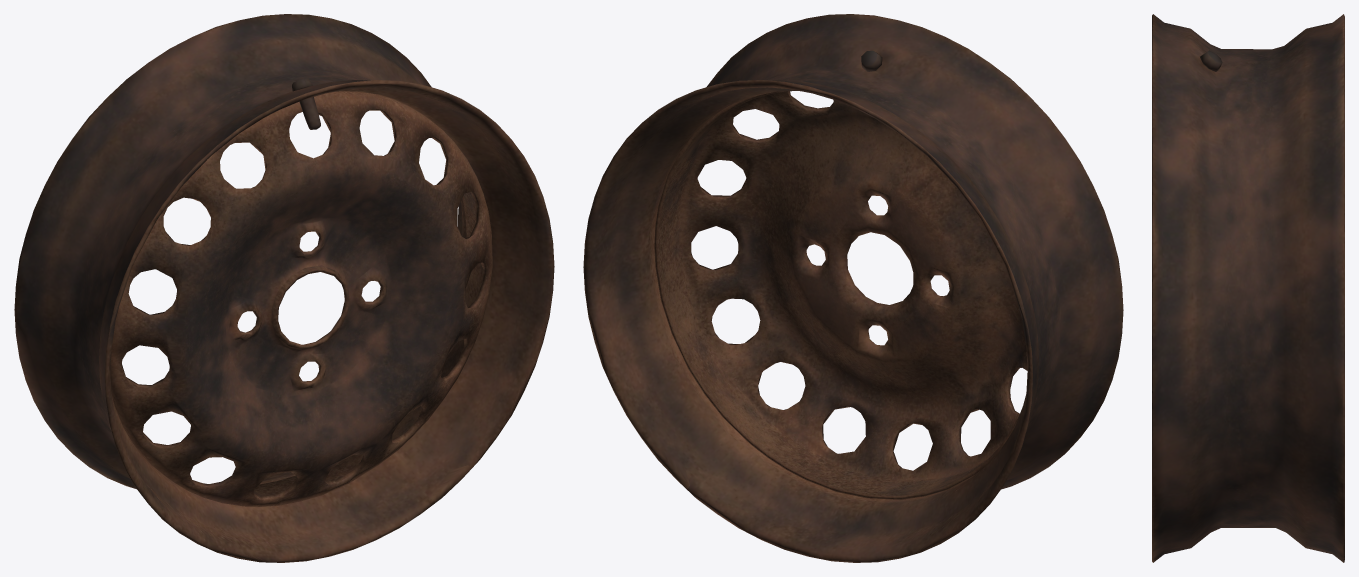
The model's file is rusted_wheel_rim_02.glb.
3 views of the same model, side by side, from view 1: azimuth 30°, elevation 25°; view 2: azimuth 150°, elevation 25°; view 3: azimuth 270°, elevation 25° (orthographic). The views are drawn at different scales.
Visible parts, largest first — view 1: rusted_wheel_rim_02; view 2: rusted_wheel_rim_02; view 3: rusted_wheel_rim_02.
Boxes of the visible parts, <box> form: rusted_wheel_rim_02: <box>14,14,554,562</box>; rusted_wheel_rim_02: <box>583,14,1123,562</box>; rusted_wheel_rim_02: <box>1152,14,1344,562</box>.
Size of the model in its own units: 0.3384 by 0.3383 by 0.1189.
Materials: 1 (1 with a texture image).
